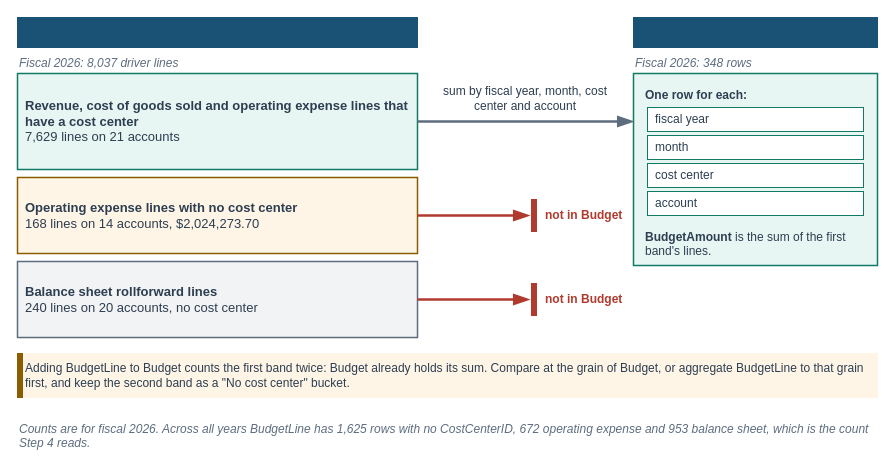
Image size: 896x471. Some labels were removed from this diagram. The shapes that lost their labels are listed below. From the top down, each one's centre as x and y in pixels, then its label:
(217,32): BudgetLine
(755,32): Budget
